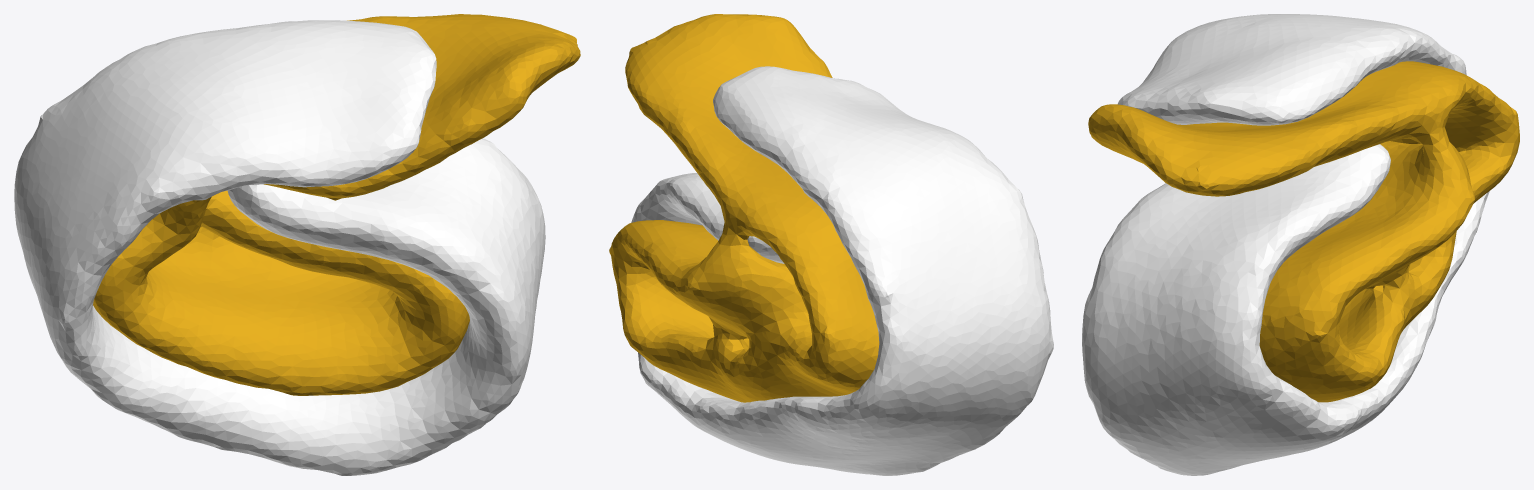
Rendered from zjl_roll.obj.
The picture shows the model from 3 angles, left to right: view 1: azimuth 30°, elevation 25°; view 2: azimuth 150°, elevation 25°; view 3: azimuth 270°, elevation 25°; orthographic projection. The views are drawn at different scales.
Size of the model in its own units: 0.3016 by 0.2453 by 0.2358.
